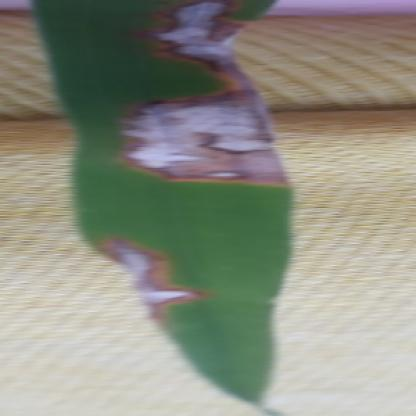Rice blast: (32, 1, 295, 409)
